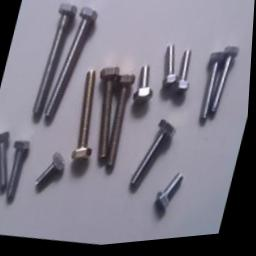Non-corroded-Bolts: (34, 4, 98, 129), (100, 70, 137, 178), (131, 123, 178, 197), (201, 51, 240, 131), (0, 133, 32, 205), (72, 72, 97, 163), (156, 178, 186, 224), (165, 48, 192, 95), (37, 154, 67, 195), (135, 68, 155, 105)
